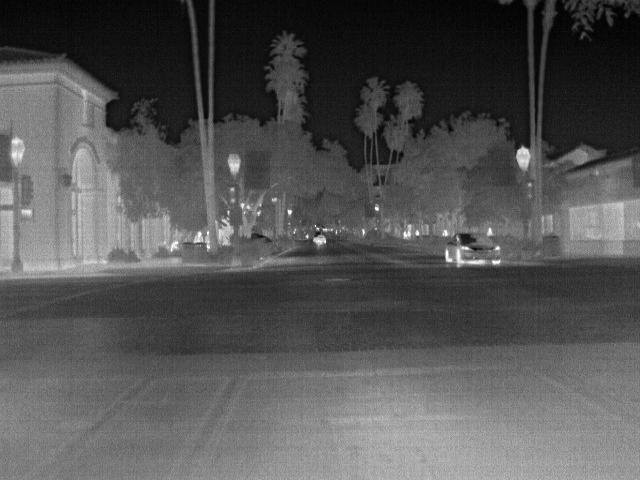car: (443, 230, 502, 265), (312, 232, 328, 246)
person: (191, 228, 205, 243)
